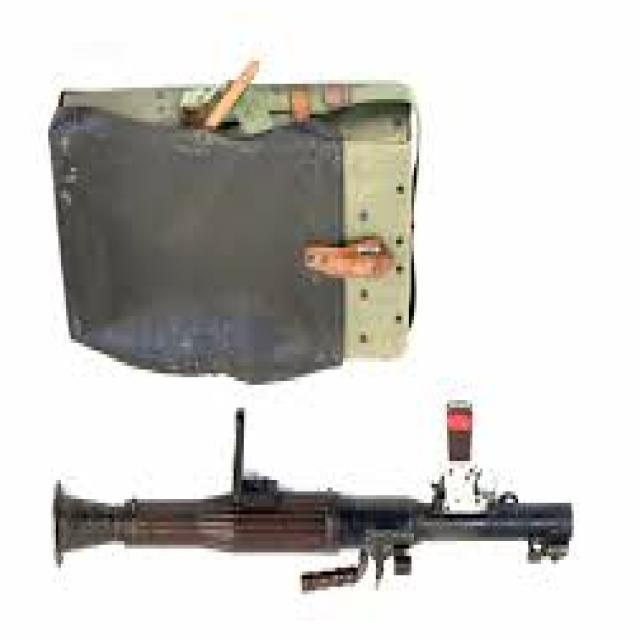Gun: (0, 431, 602, 583)
